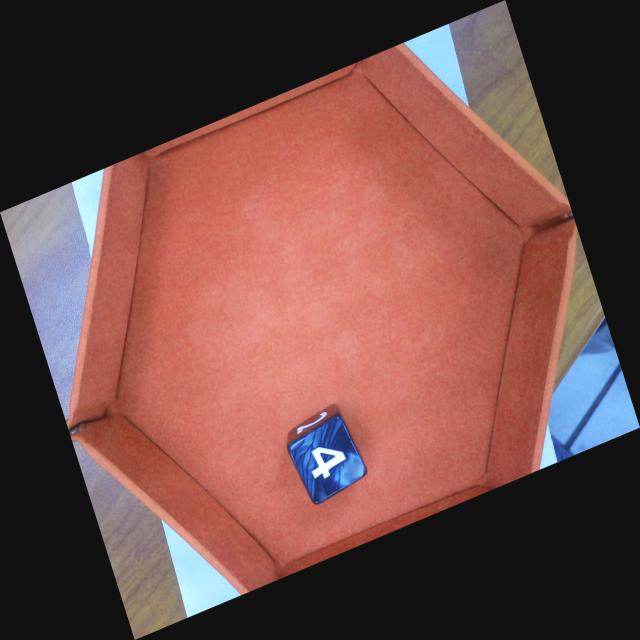dice: (290, 413, 368, 505)
